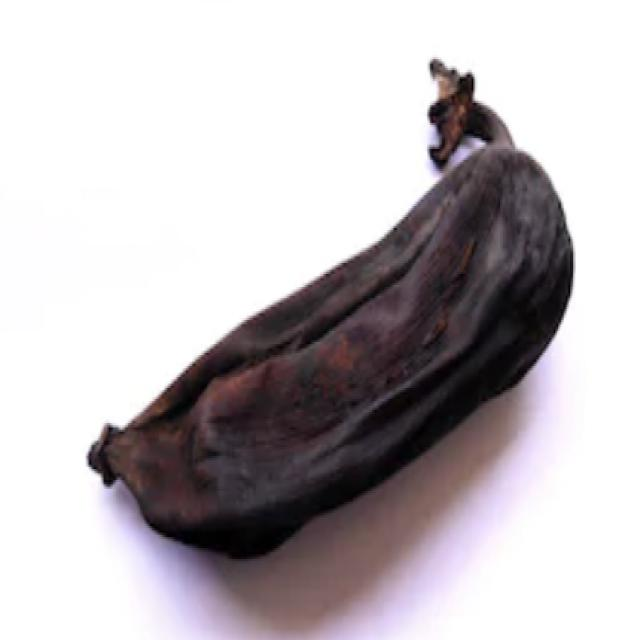rotten-banana: (85, 144, 588, 551)
